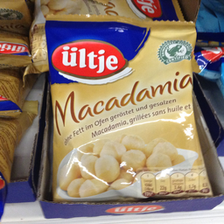nuts: (44, 14, 214, 202)
